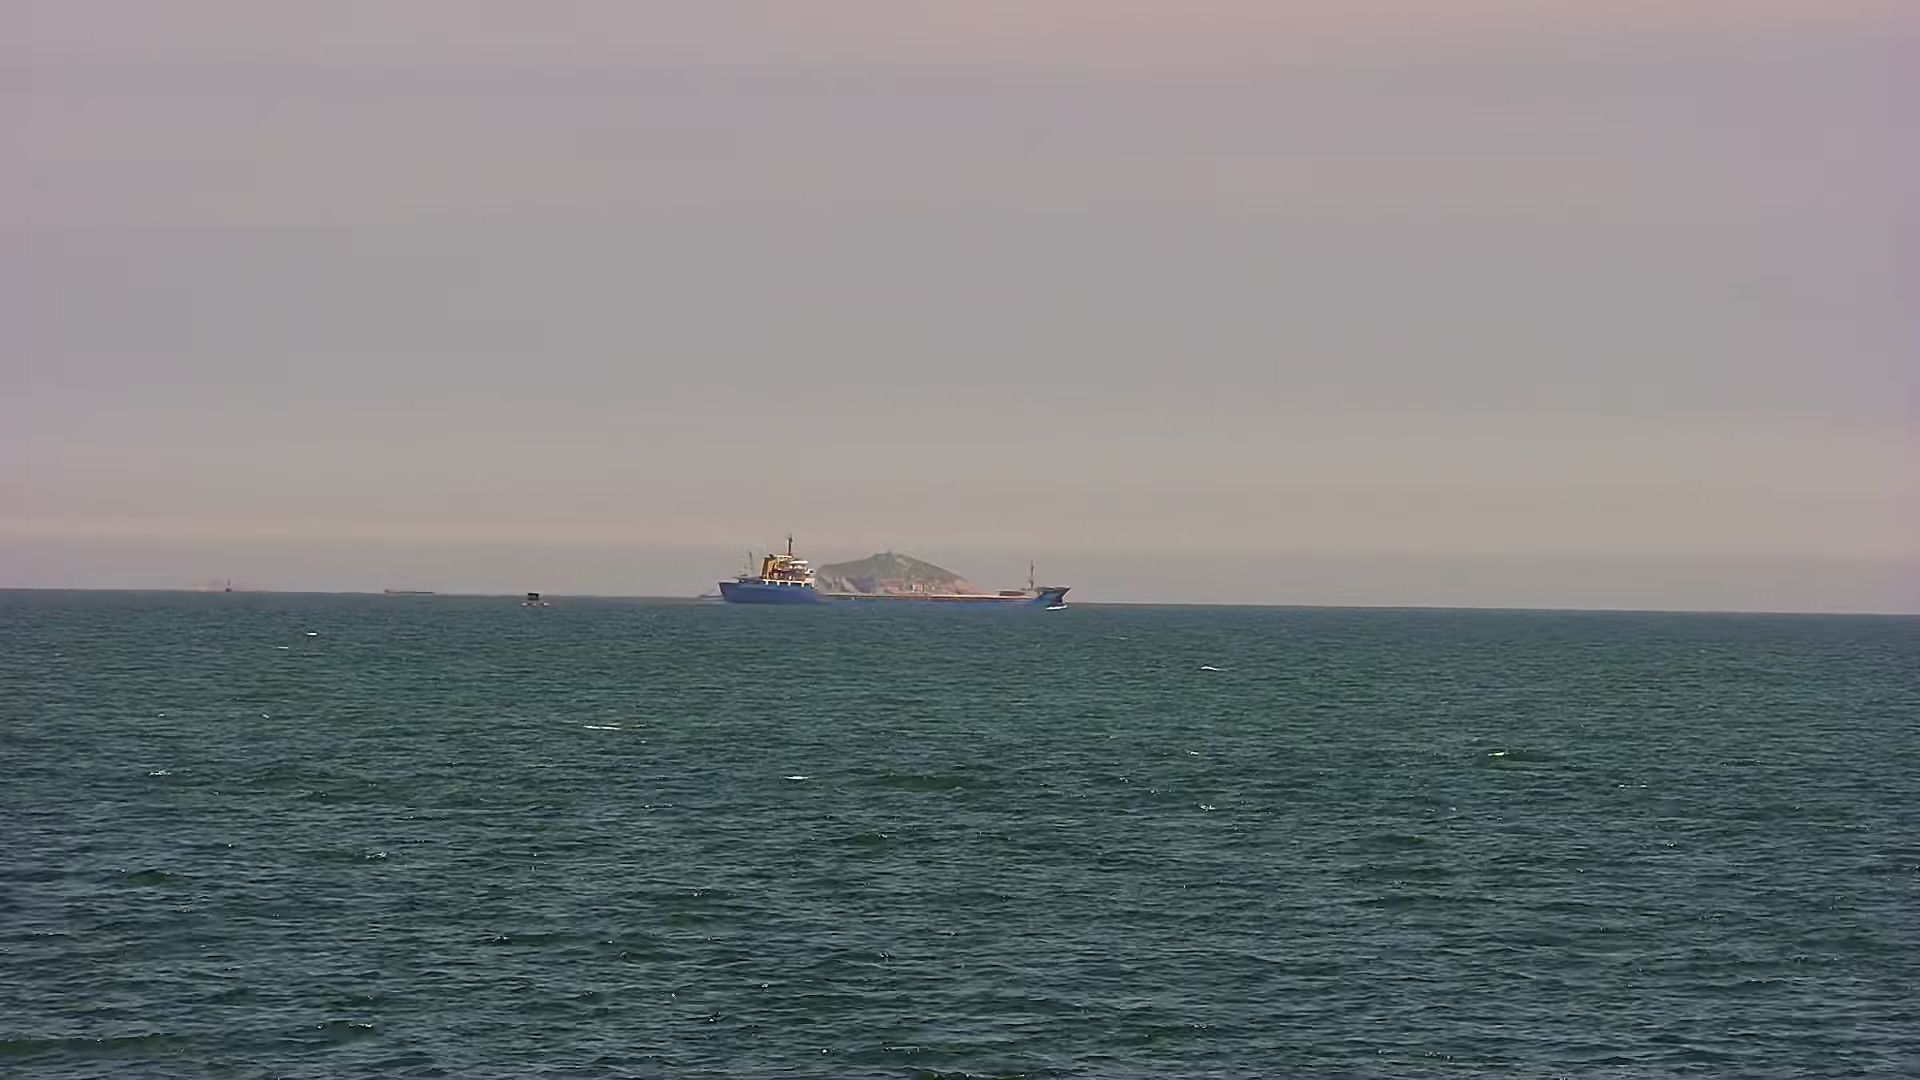platform: (516, 589, 556, 611)
rock: (818, 546, 1001, 596)
ship: (707, 534, 1080, 613)
